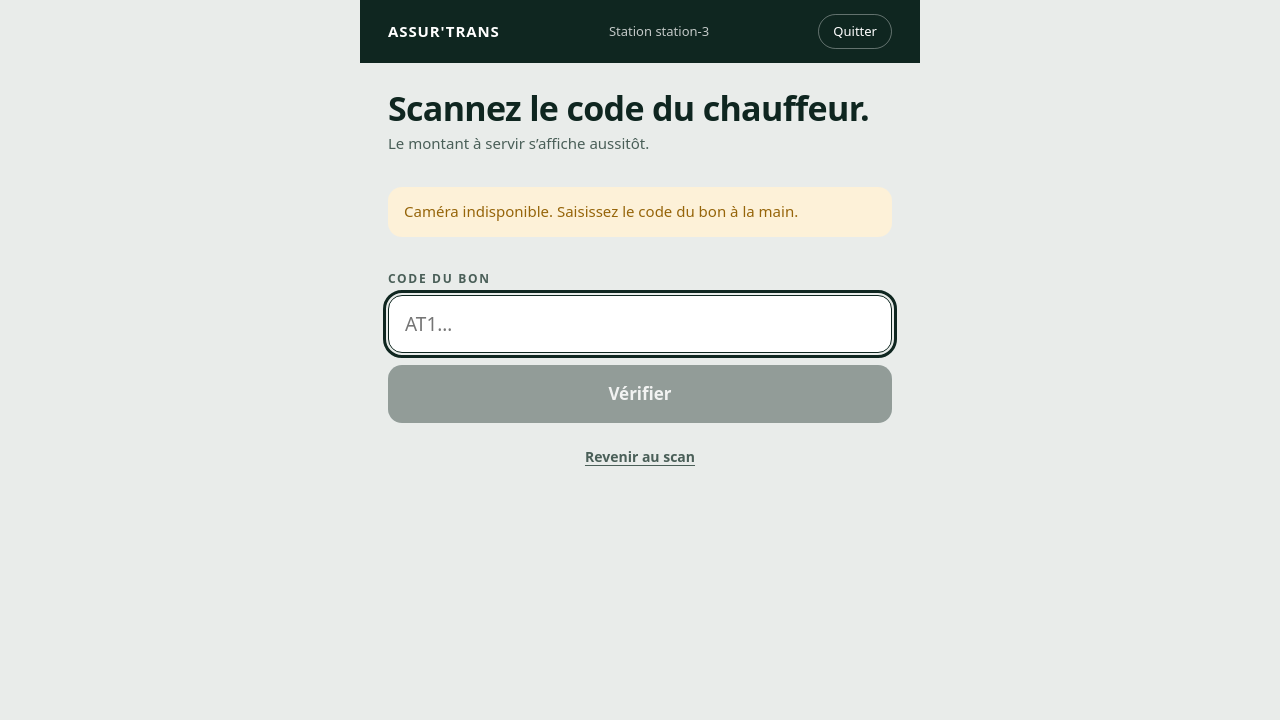
Test: bon déjà utilisé › traduit le refus en une phrase, sans identifiant technique
Type "AT1.charge.signature" into the field with placeholder "AT1…" at (640, 324), box 388,295 -> 892,353
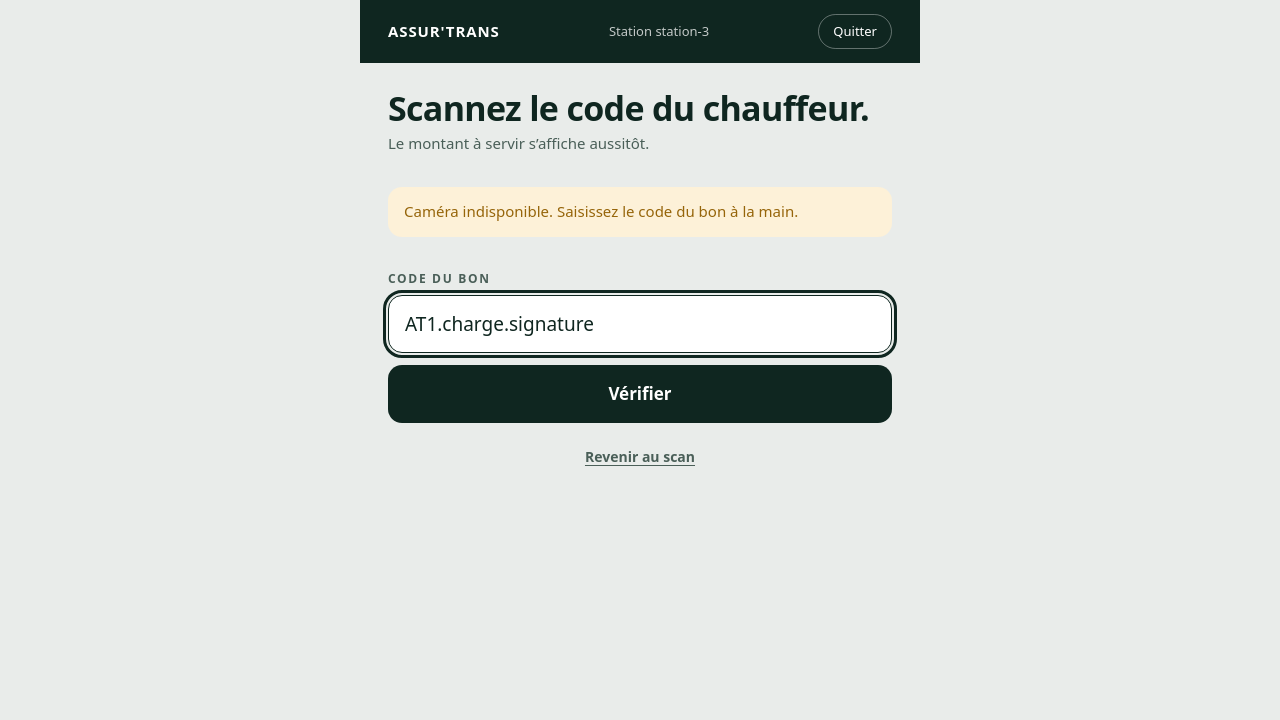
Click the button "Vérifier" at (640, 394), box 388,365 -> 892,423
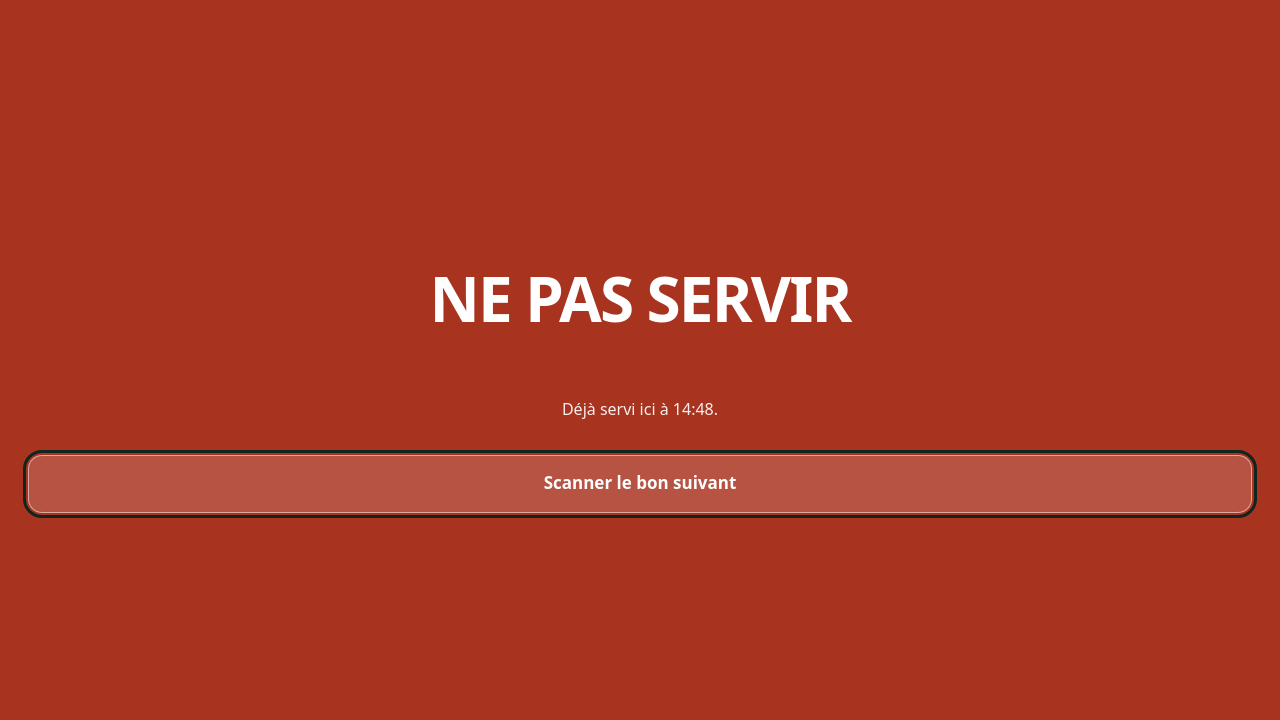
Expected: the text with class "mot" reads "Ne pas servir", 429,256 -> 850,340
Expected: the message reads "Ne pas servir Déjà servi ici à 14:48. Scanner le bon suivant", 562,398 -> 718,420
